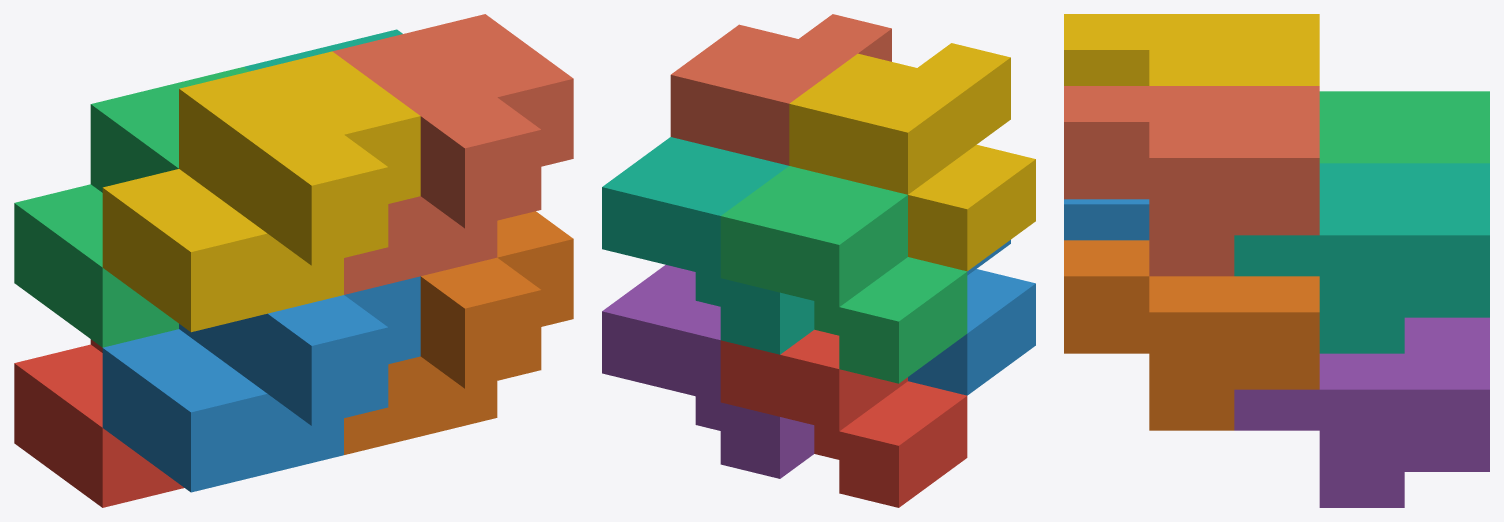
Rendered from tiling.obj.
The picture shows the model from 3 angles, left to right: view 1: azimuth 30°, elevation 25°; view 2: azimuth 150°, elevation 25°; view 3: azimuth 270°, elevation 25°; orthographic projection. The views are drawn at different scales.
Visible parts, largest first — view 1: copy_1_domain_4, copy_1_domain_2, copy_1_domain_8, copy_1_domain_6, copy_1_domain_3, copy_1_domain_1, copy_1_domain_7; view 2: copy_1_domain_4, copy_1_domain_3, copy_1_domain_1, copy_1_domain_7, copy_1_domain_5, copy_1_domain_8, copy_1_domain_2; view 3: copy_1_domain_8, copy_1_domain_7, copy_1_domain_6, copy_1_domain_5, copy_1_domain_4, copy_1_domain_3, copy_1_domain_2.
Boxes of the visible parts, x1,y1,x2,y2 form: copy_1_domain_4: [102, 51, 420, 332]; copy_1_domain_2: [102, 276, 420, 492]; copy_1_domain_8: [332, 14, 573, 294]; copy_1_domain_6: [344, 211, 573, 454]; copy_1_domain_3: [14, 67, 249, 347]; copy_1_domain_1: [14, 339, 184, 507]; copy_1_domain_7: [244, 29, 402, 71]; copy_1_domain_4: [789, 43, 1035, 271]; copy_1_domain_3: [720, 166, 967, 383]; copy_1_domain_1: [720, 329, 967, 507]; copy_1_domain_7: [602, 137, 814, 354]; copy_1_domain_5: [602, 265, 814, 478]; copy_1_domain_8: [670, 14, 891, 165]; copy_1_domain_2: [908, 240, 1035, 395]; copy_1_domain_8: [1064, 86, 1319, 276]; copy_1_domain_7: [1234, 163, 1489, 353]; copy_1_domain_6: [1064, 240, 1319, 430]; copy_1_domain_5: [1234, 317, 1489, 507]; copy_1_domain_4: [1064, 14, 1319, 85]; copy_1_domain_3: [1319, 91, 1489, 163]; copy_1_domain_2: [1064, 199, 1149, 240].
Bounding box in the file's own units: 5 × 5 × 5.
